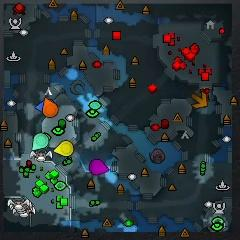p1: (35, 101, 45, 112)
p2: (32, 133, 49, 150)
p3: (89, 159, 110, 176)
p4: (53, 140, 74, 156)
p5: (43, 97, 59, 117)
x5: (191, 93, 208, 108)
